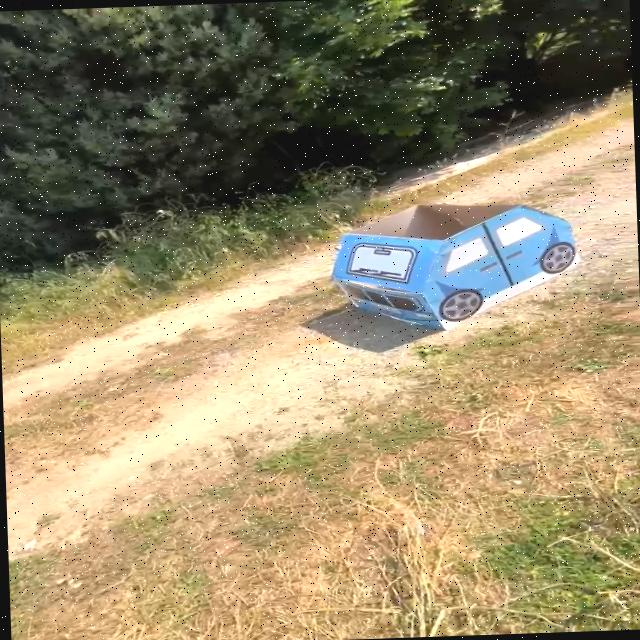blue_car: (316, 181, 607, 348)
